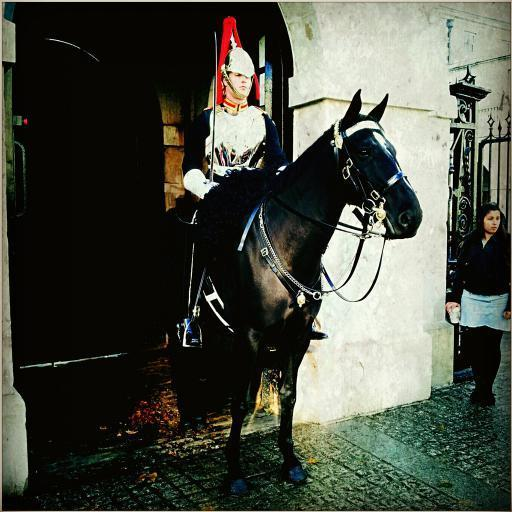horse: (157, 86, 425, 496)
